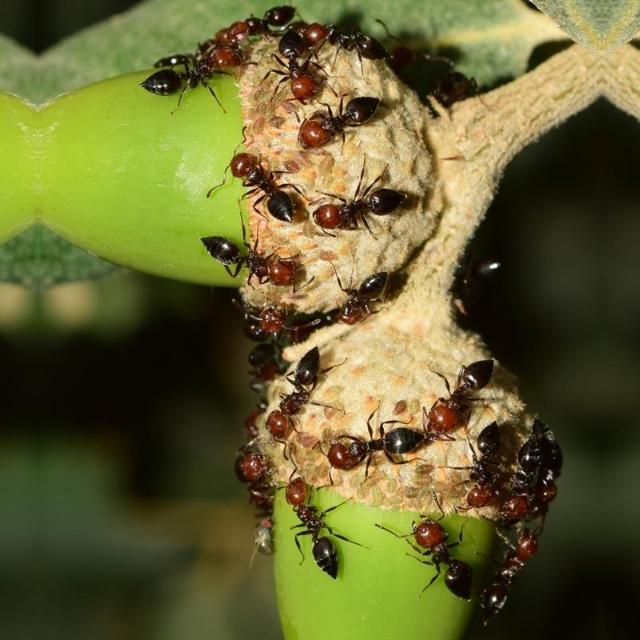Crematogaster: (190, 215, 294, 291), (275, 476, 355, 574), (324, 406, 428, 478), (477, 514, 548, 610), (145, 41, 247, 105), (424, 339, 480, 446), (287, 90, 387, 148), (229, 143, 301, 223), (268, 336, 320, 444), (453, 422, 521, 502), (400, 508, 460, 594), (294, 19, 394, 69), (304, 182, 408, 230), (217, 0, 303, 42), (330, 261, 384, 325), (271, 31, 323, 94)
